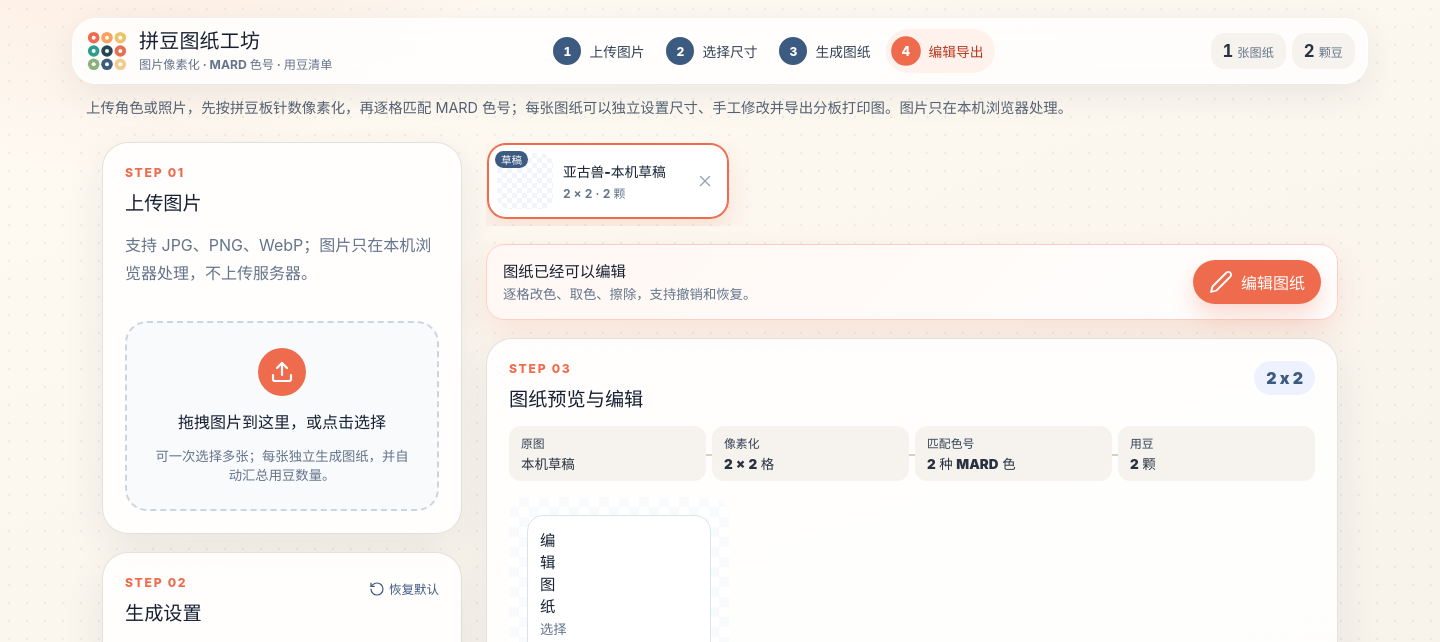
Test: local pattern drafts › restores a saved draft without an upload and removes it from local storage
This screenshot has width=1440, height=642.
Check: the button "亚古兽-本机草稿 2 × 2 · 2 颗 草稿" is shown, box [489, 146, 683, 218]
Check: the text "2 x 2" is shown, box [1254, 362, 1315, 396]
Click the button named "移除 亚古兽-本机草稿". click: coordinates (705, 182)
box: [683, 146, 727, 218]
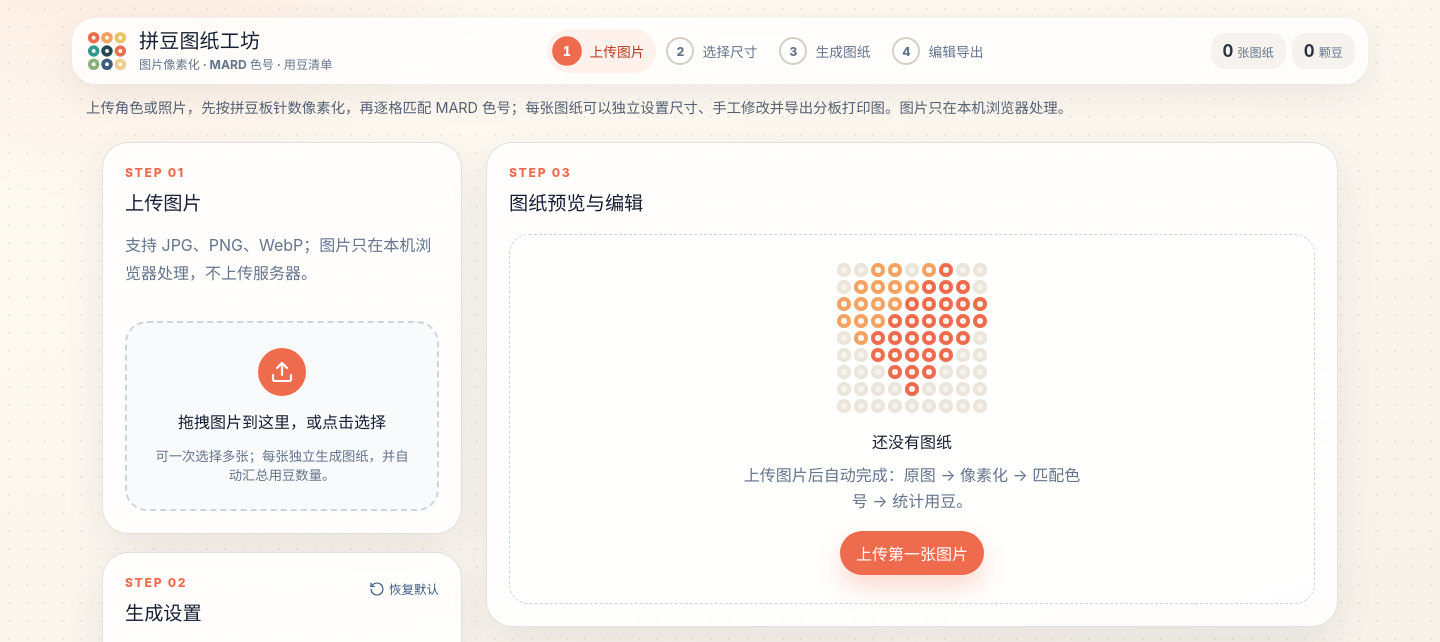
Check: the button "亚古兽-本机草稿" is gone
